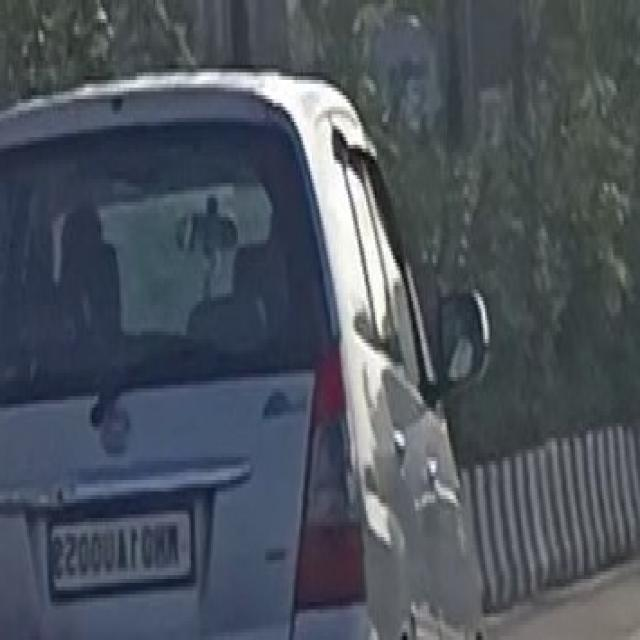license_plate: (44, 492, 199, 603)
